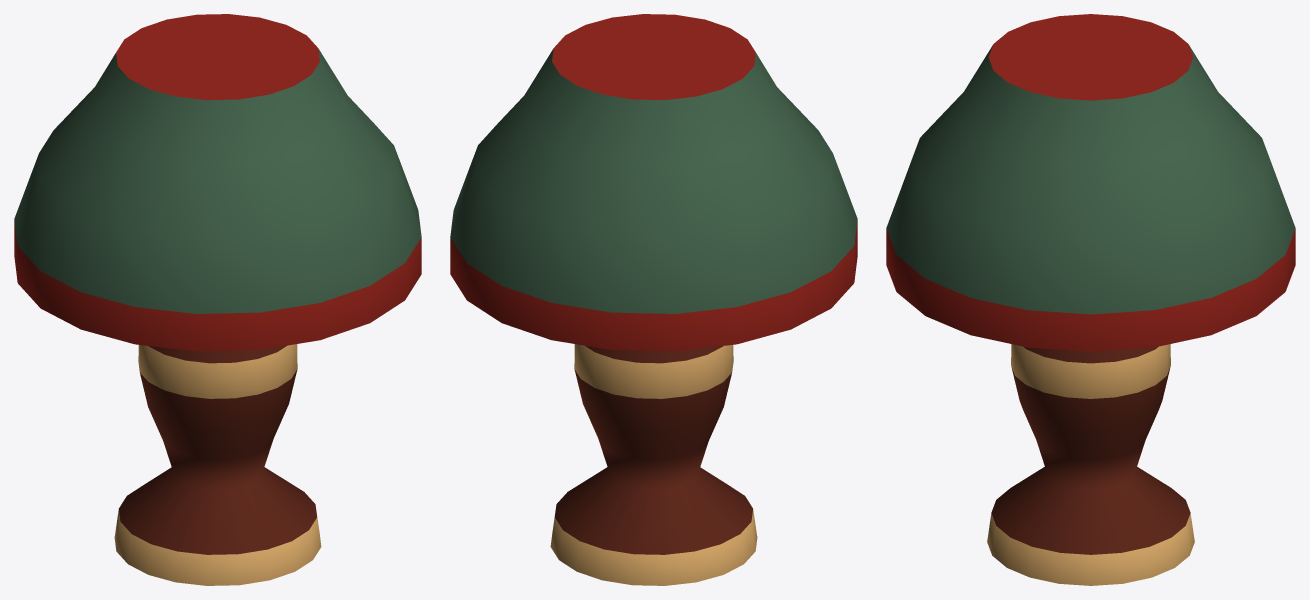
File: lamp.fbx
3 renders of one model, left to right at view 1: azimuth 30°, elevation 25°; view 2: azimuth 150°, elevation 25°; view 3: azimuth 270°, elevation 25°, orthographic.
Parts seen in each view (by area): view 1: pCylinder2, pCylinder1; view 2: pCylinder2, pCylinder1; view 3: pCylinder2, pCylinder1.
Boxes of the visible parts, left/top/right/bottom form: pCylinder2: left=14, top=14, right=421, bottom=351; pCylinder1: left=114, top=344, right=321, bottom=585; pCylinder2: left=450, top=14, right=857, bottom=351; pCylinder1: left=550, top=344, right=757, bottom=585; pCylinder2: left=886, top=14, right=1295, bottom=351; pCylinder1: left=987, top=344, right=1194, bottom=585.
Size of the model in its own units: 4.14 by 5.41 by 4.14.
